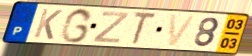8: (192, 16, 220, 48)
G: (59, 7, 95, 44)
K: (31, 8, 64, 41)
T: (131, 10, 159, 46)
V: (167, 13, 198, 48)
Z: (91, 11, 131, 45)
